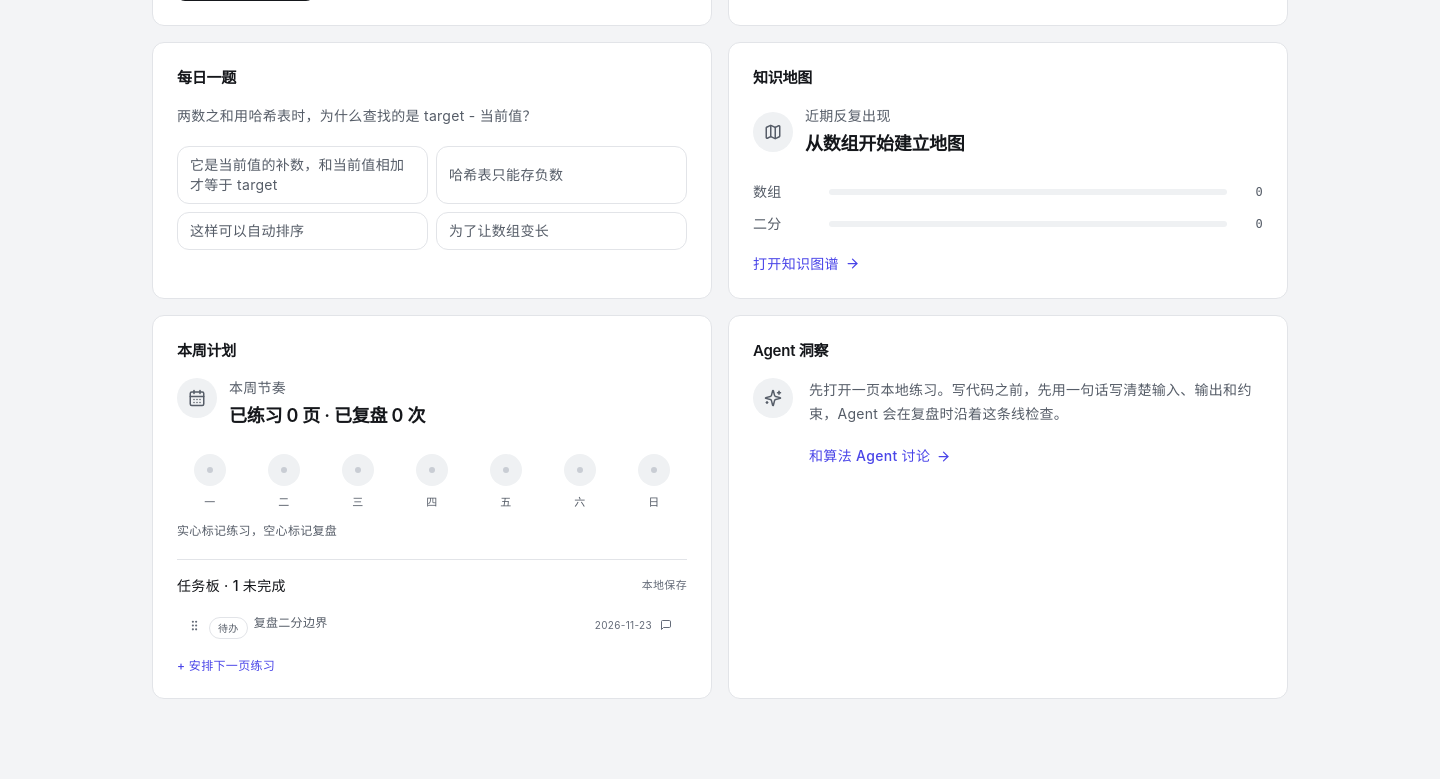
Test: moves a task across the board, archives it once done and restores it from the archive
Later steps or results of the test are not shown.
(page scrolled)
Click the button "待办" at (228, 628), box [209,616,248,638]
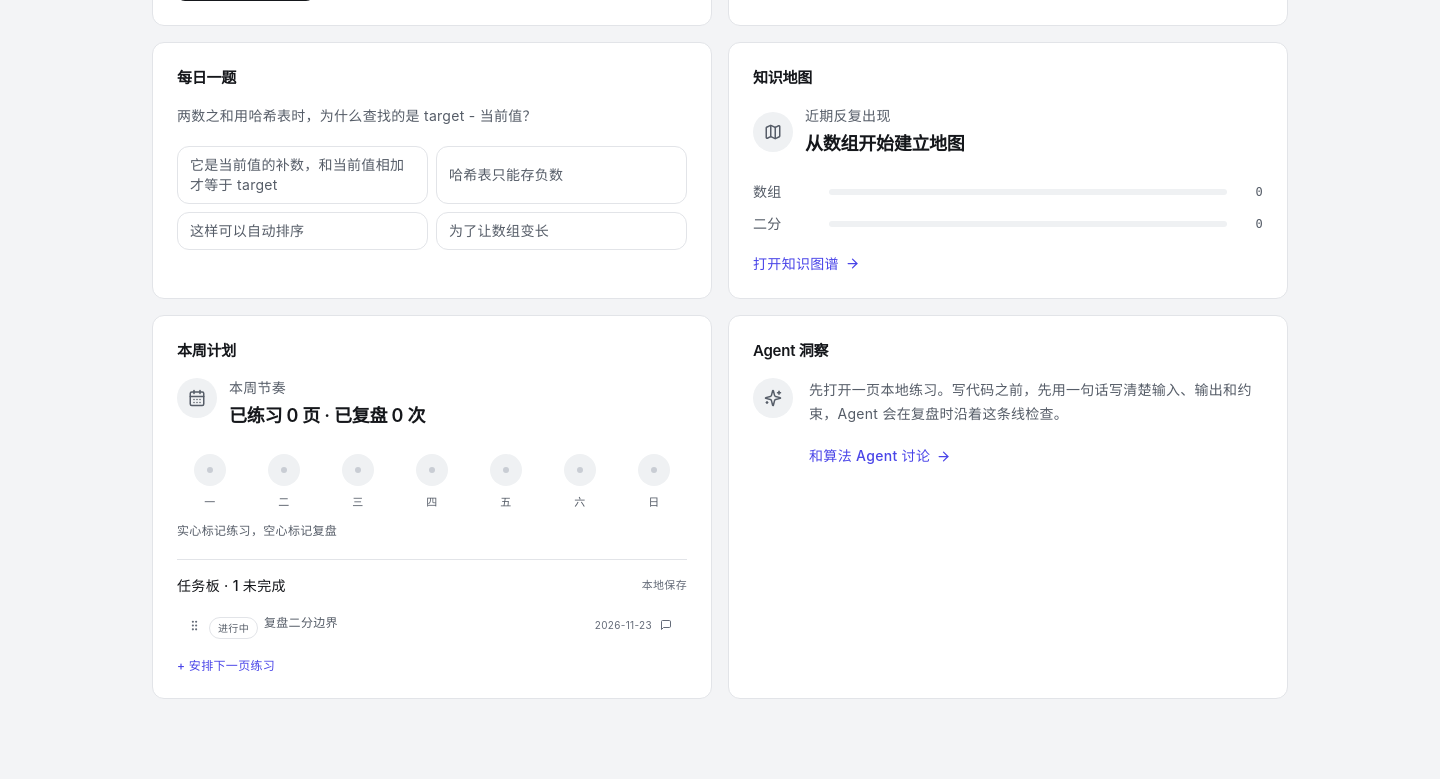
Click the button "进行中" at (234, 628), box [209,616,258,638]
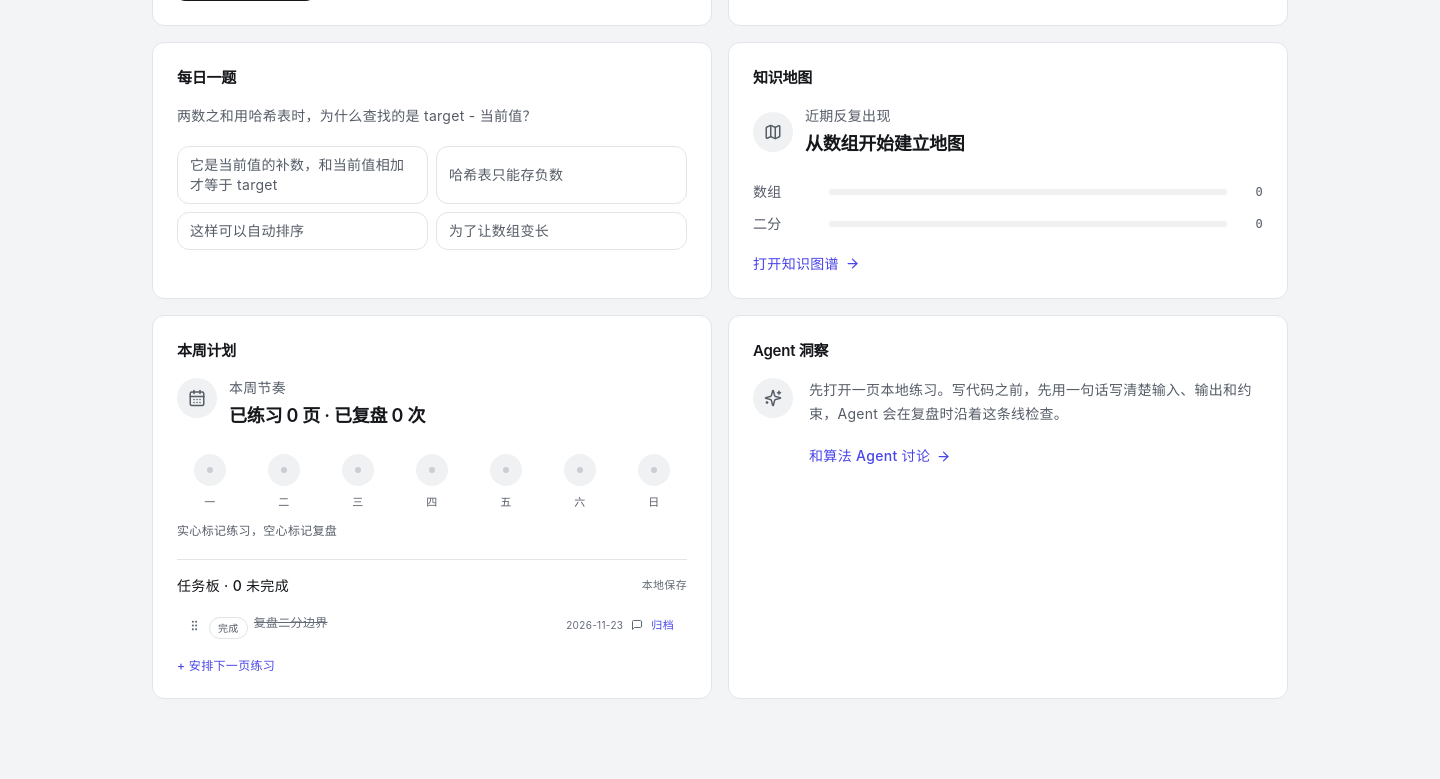
Expected: the text "任务板 · 0 未完成" is shown, [177,576,289,596]
Click the button "归档" at (663, 624), box [651,616,674,632]
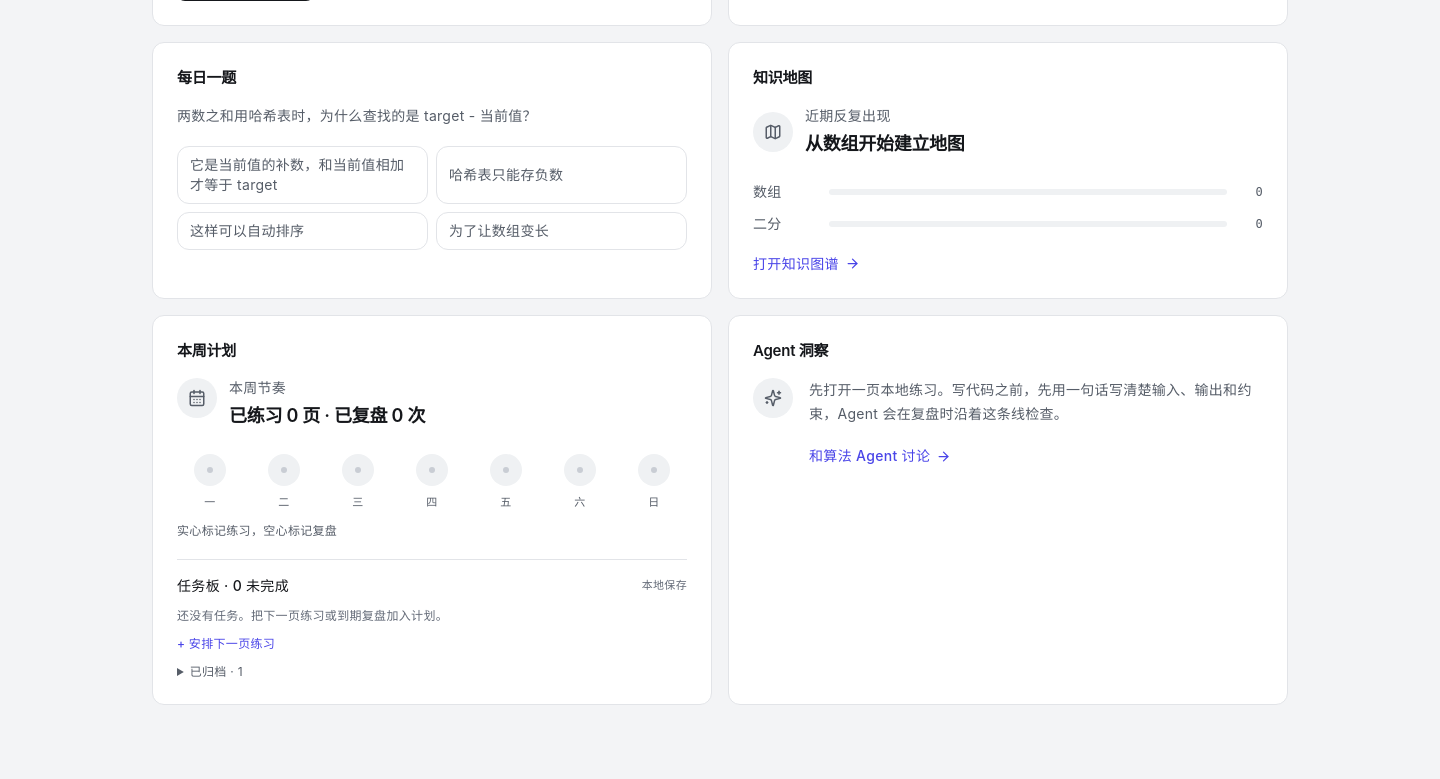
Expected: the text "已归档 · 1" is shown, [190,664,243,678]
